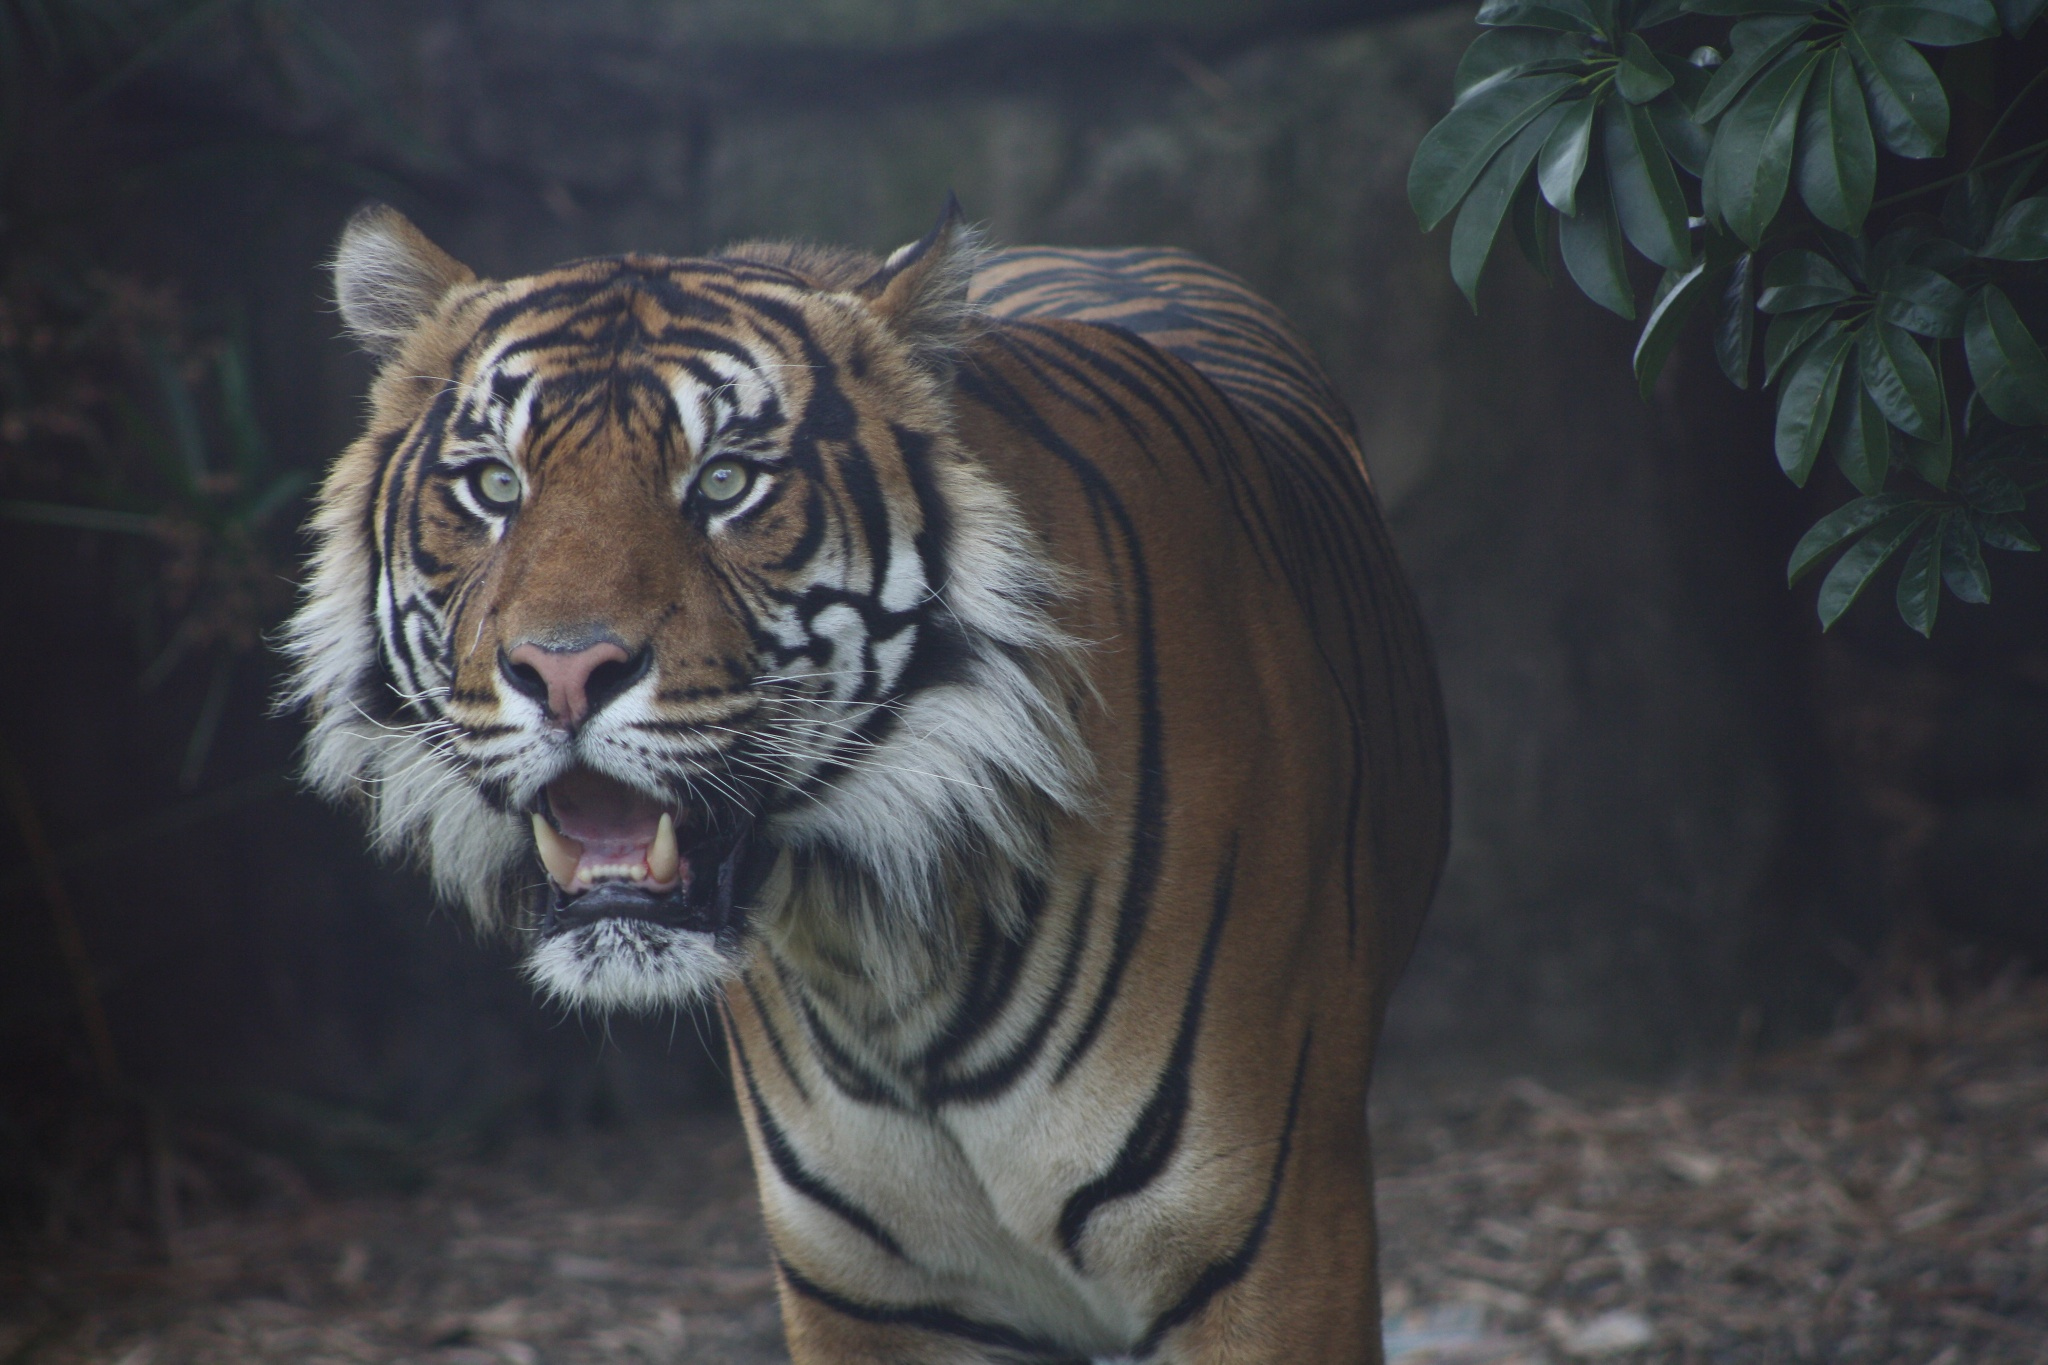tiger: (254, 219, 1585, 1284)
